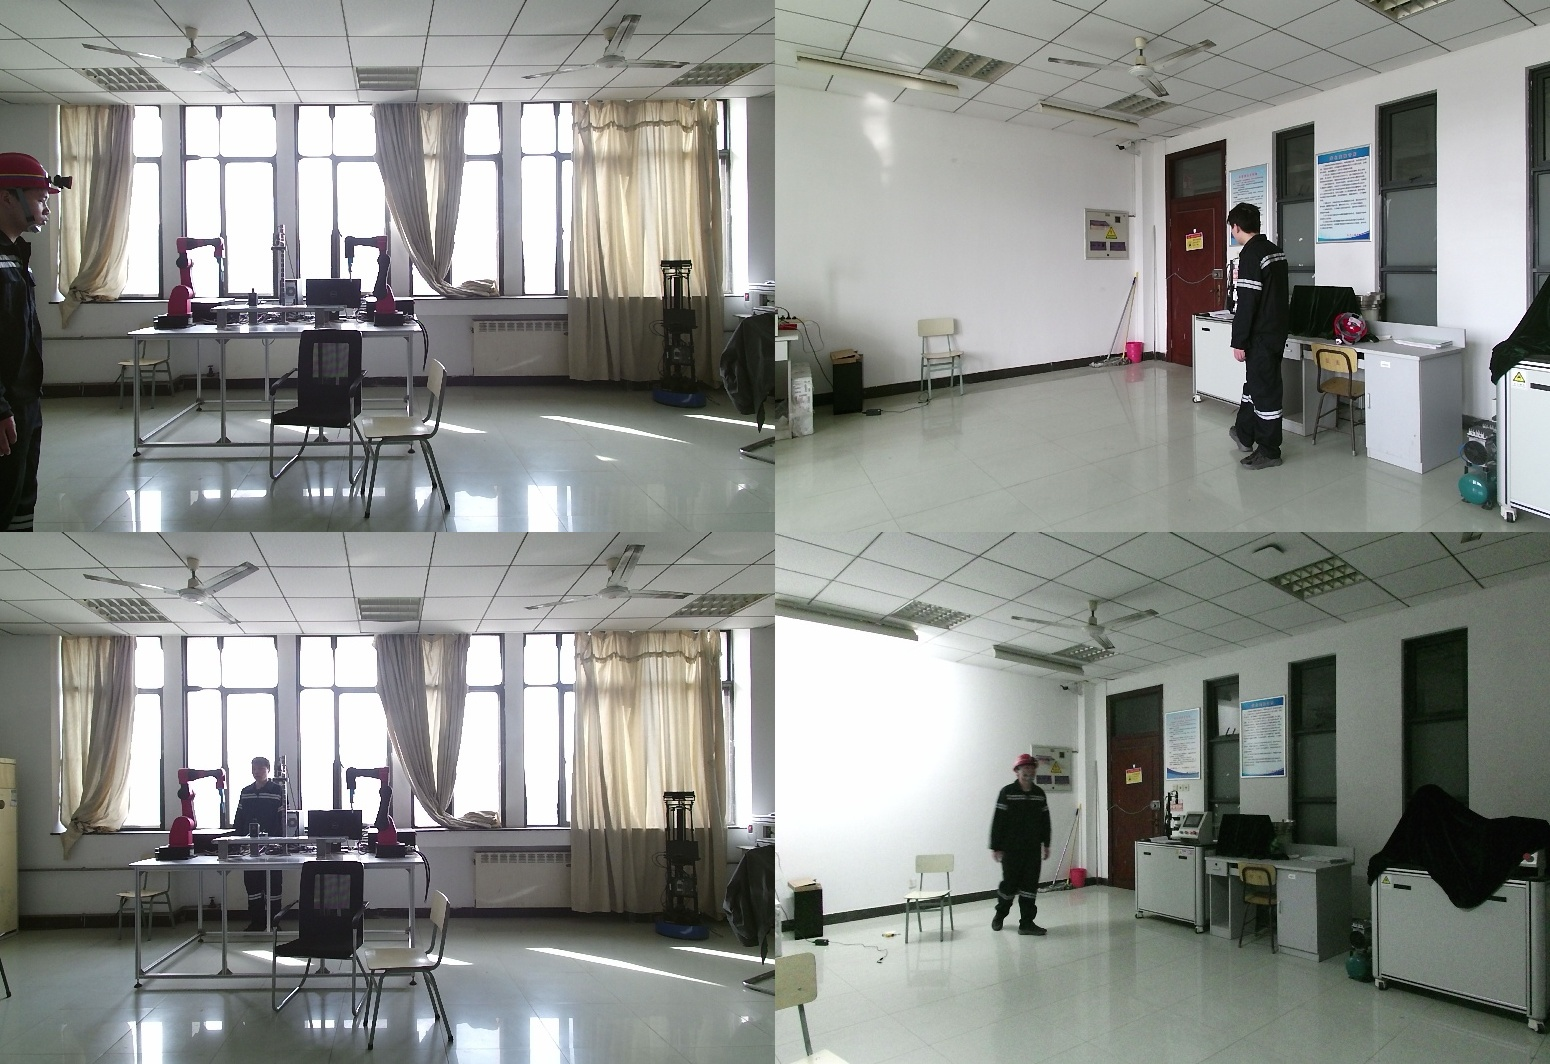person: (1, 152, 76, 532), (1231, 202, 1308, 470), (980, 756, 1045, 948), (233, 758, 288, 941)
